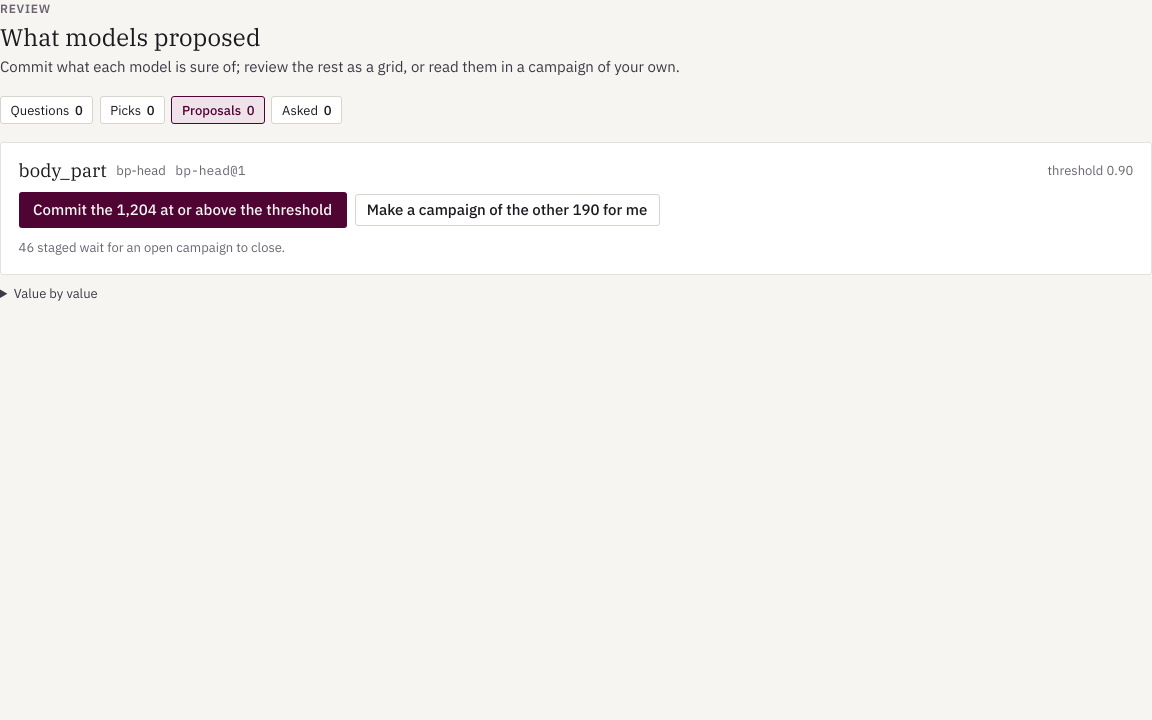
Test: the Proposals page › offers the whole lot alone where it is under the cap, and no estimate where the engine knows no pace
Click the button "Make a campaign of the other 190 for me".
click(507, 210)  # box [355,194,660,226]
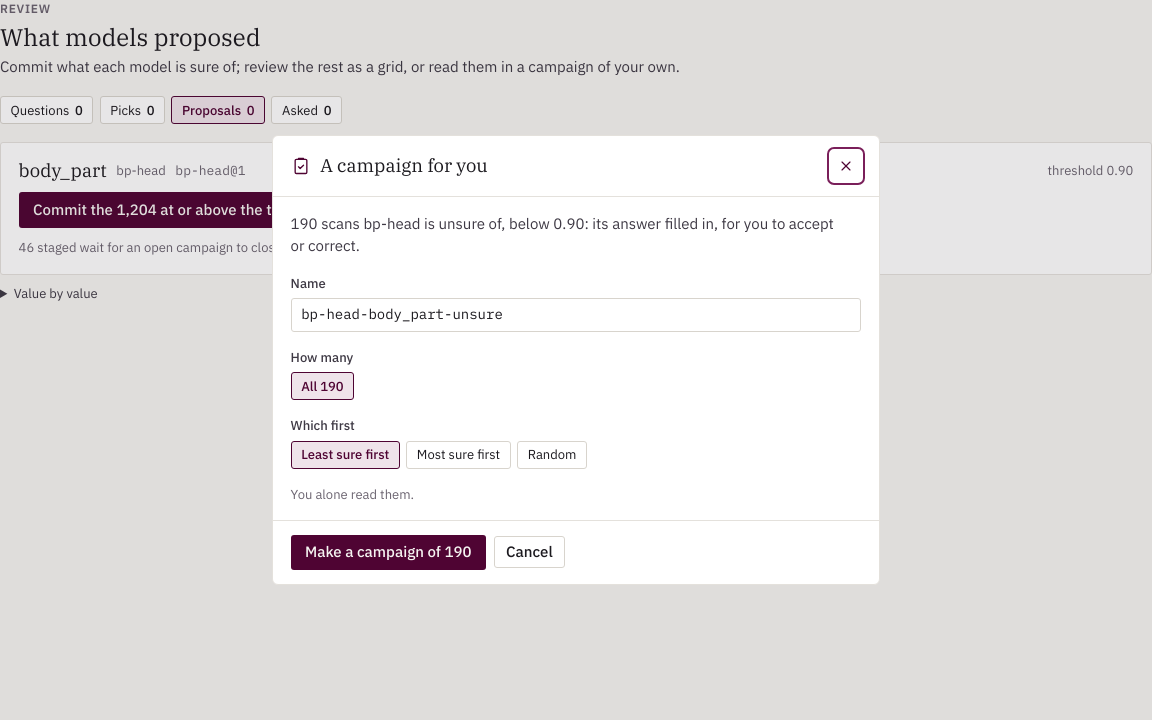
Now the text with class "rest-estimate" reads "You alone read them.", box [291,486,414,503]
Now the button "Make a campaign of 190" is shown, box [291,535,486,570]
